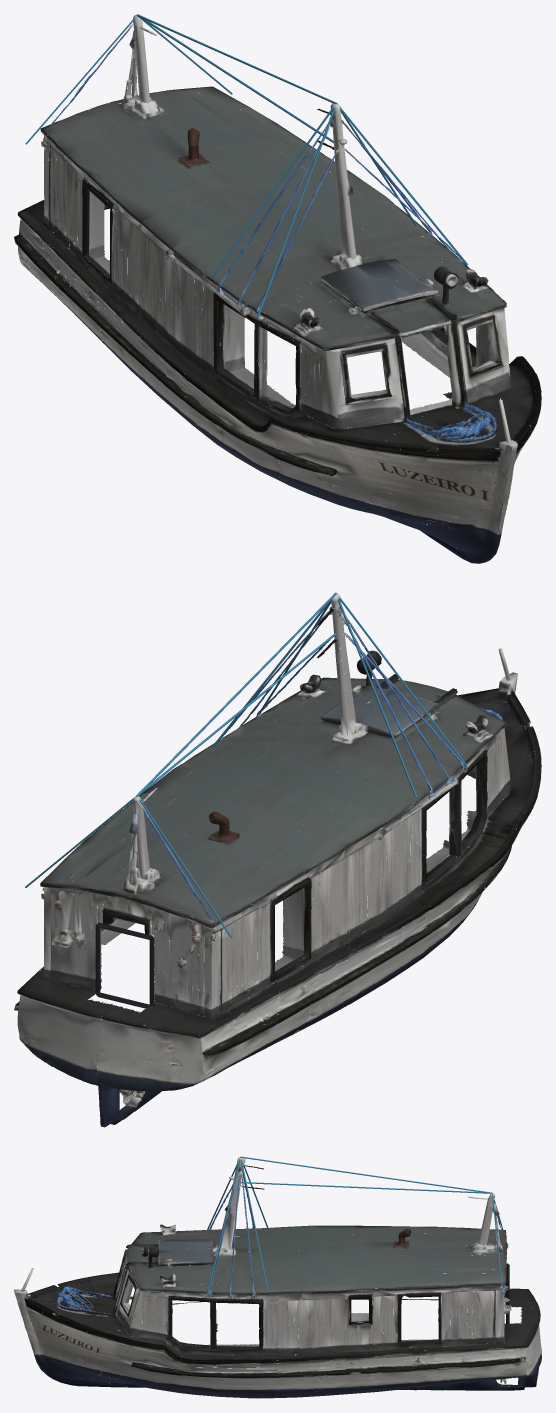
The model's file is luzeiro_b.glb.
The picture shows the model from 3 angles, top to bottom: view 1: azimuth 30°, elevation 25°; view 2: azimuth 150°, elevation 25°; view 3: azimuth 270°, elevation 25°; orthographic projection. The views are drawn at different scales.
Visible parts, largest first — view 1: Luzeiro_casco, Nome_boreste, Cordas; view 2: Luzeiro_casco, Cordas, Porta_popa; view 3: Luzeiro_casco, Nome_bombordo, Cordas.
Boxes of the visible parts, x1,y1,x2,y2 form: Luzeiro_casco: (14, 15, 541, 563); Nome_boreste: (333, 443, 506, 517); Cordas: (25, 14, 467, 315); Luzeiro_casco: (14, 593, 541, 1127); Cordas: (25, 592, 467, 938); Porta_popa: (95, 922, 154, 1008); Luzeiro_casco: (14, 1157, 541, 1398); Nome_bombordo: (22, 1311, 117, 1363); Cordas: (206, 1156, 503, 1295).
Bounding box in the file's own units: 5.26 × 7.32 × 15.
4 materials, 2 textured.
